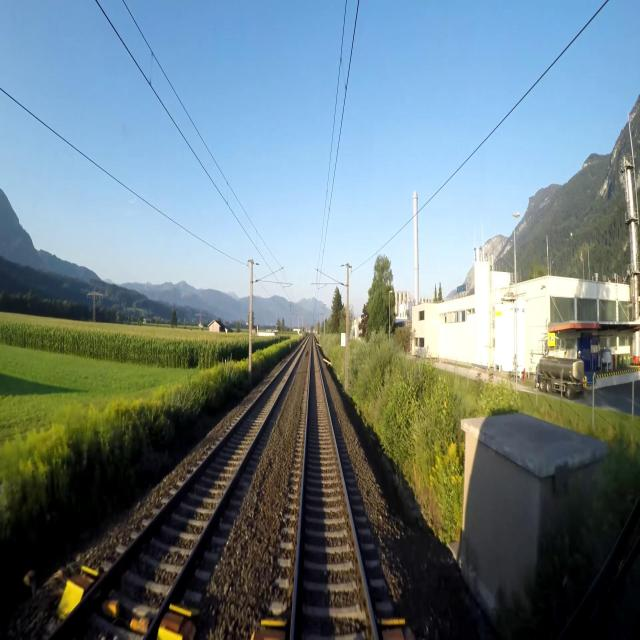rail-track: (53, 348, 301, 639), (294, 345, 375, 639)
